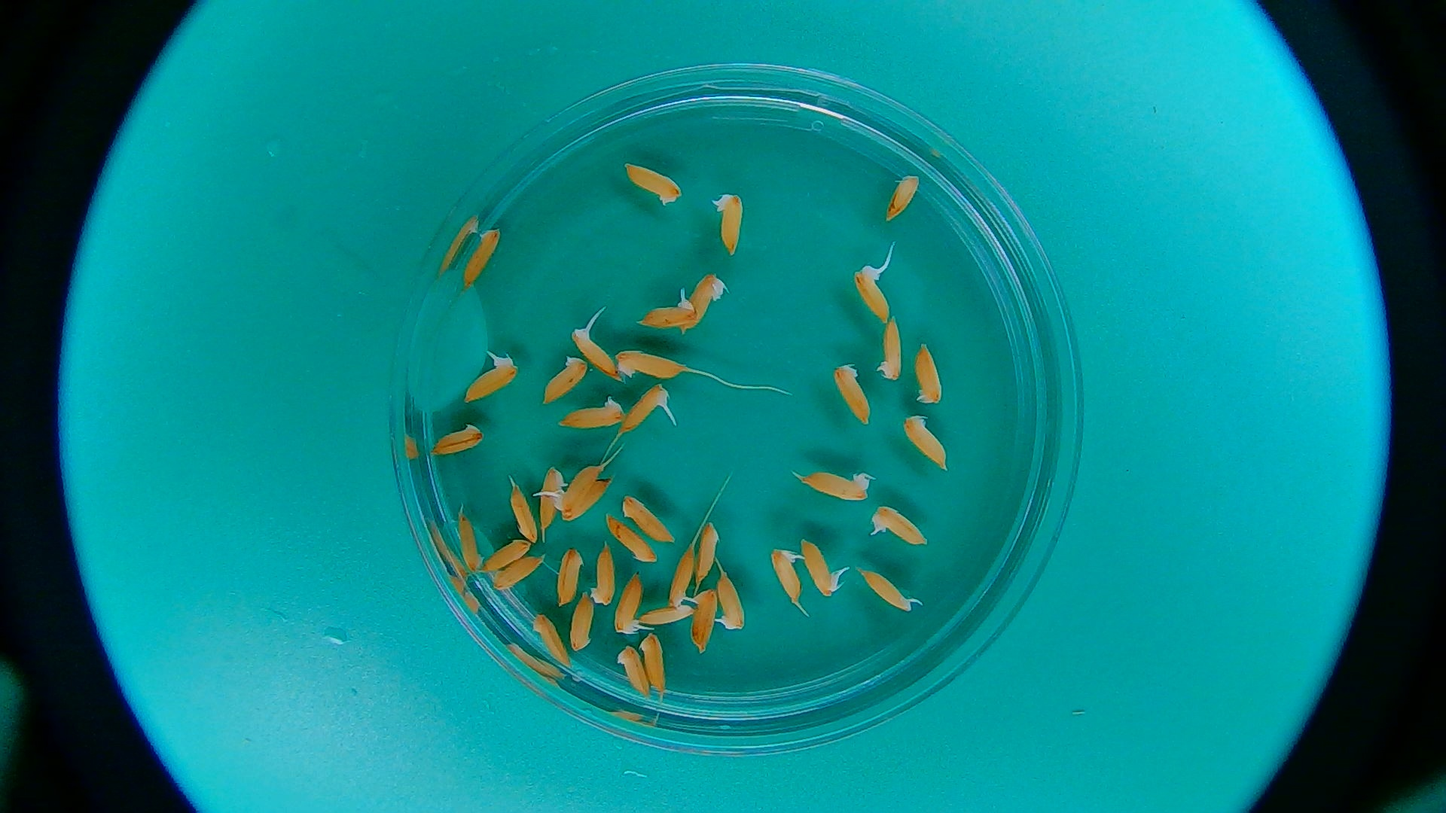no: (621, 158, 686, 211), (529, 607, 574, 674), (541, 352, 590, 412), (459, 225, 504, 290), (602, 513, 657, 565), (553, 394, 627, 431), (876, 306, 911, 384), (501, 471, 538, 544), (586, 540, 624, 611), (829, 360, 871, 424), (624, 494, 673, 548), (902, 413, 948, 467), (534, 464, 566, 541), (688, 274, 727, 337), (560, 477, 612, 523), (881, 169, 923, 225), (479, 534, 533, 576), (489, 552, 543, 593), (449, 508, 481, 574), (552, 546, 584, 611), (637, 631, 669, 696), (612, 349, 679, 380), (690, 521, 721, 586), (911, 340, 941, 405), (669, 545, 698, 609), (619, 647, 651, 702), (640, 599, 695, 631), (432, 423, 485, 455), (571, 589, 596, 656)
yes: (573, 322, 621, 381), (462, 356, 520, 404), (618, 385, 676, 432), (859, 567, 916, 614), (873, 504, 928, 550), (558, 458, 602, 510), (611, 572, 646, 637), (802, 540, 840, 596), (857, 263, 892, 323), (687, 586, 719, 651), (715, 571, 748, 632), (640, 294, 699, 328), (808, 470, 877, 499), (770, 550, 803, 607), (715, 193, 743, 257)
